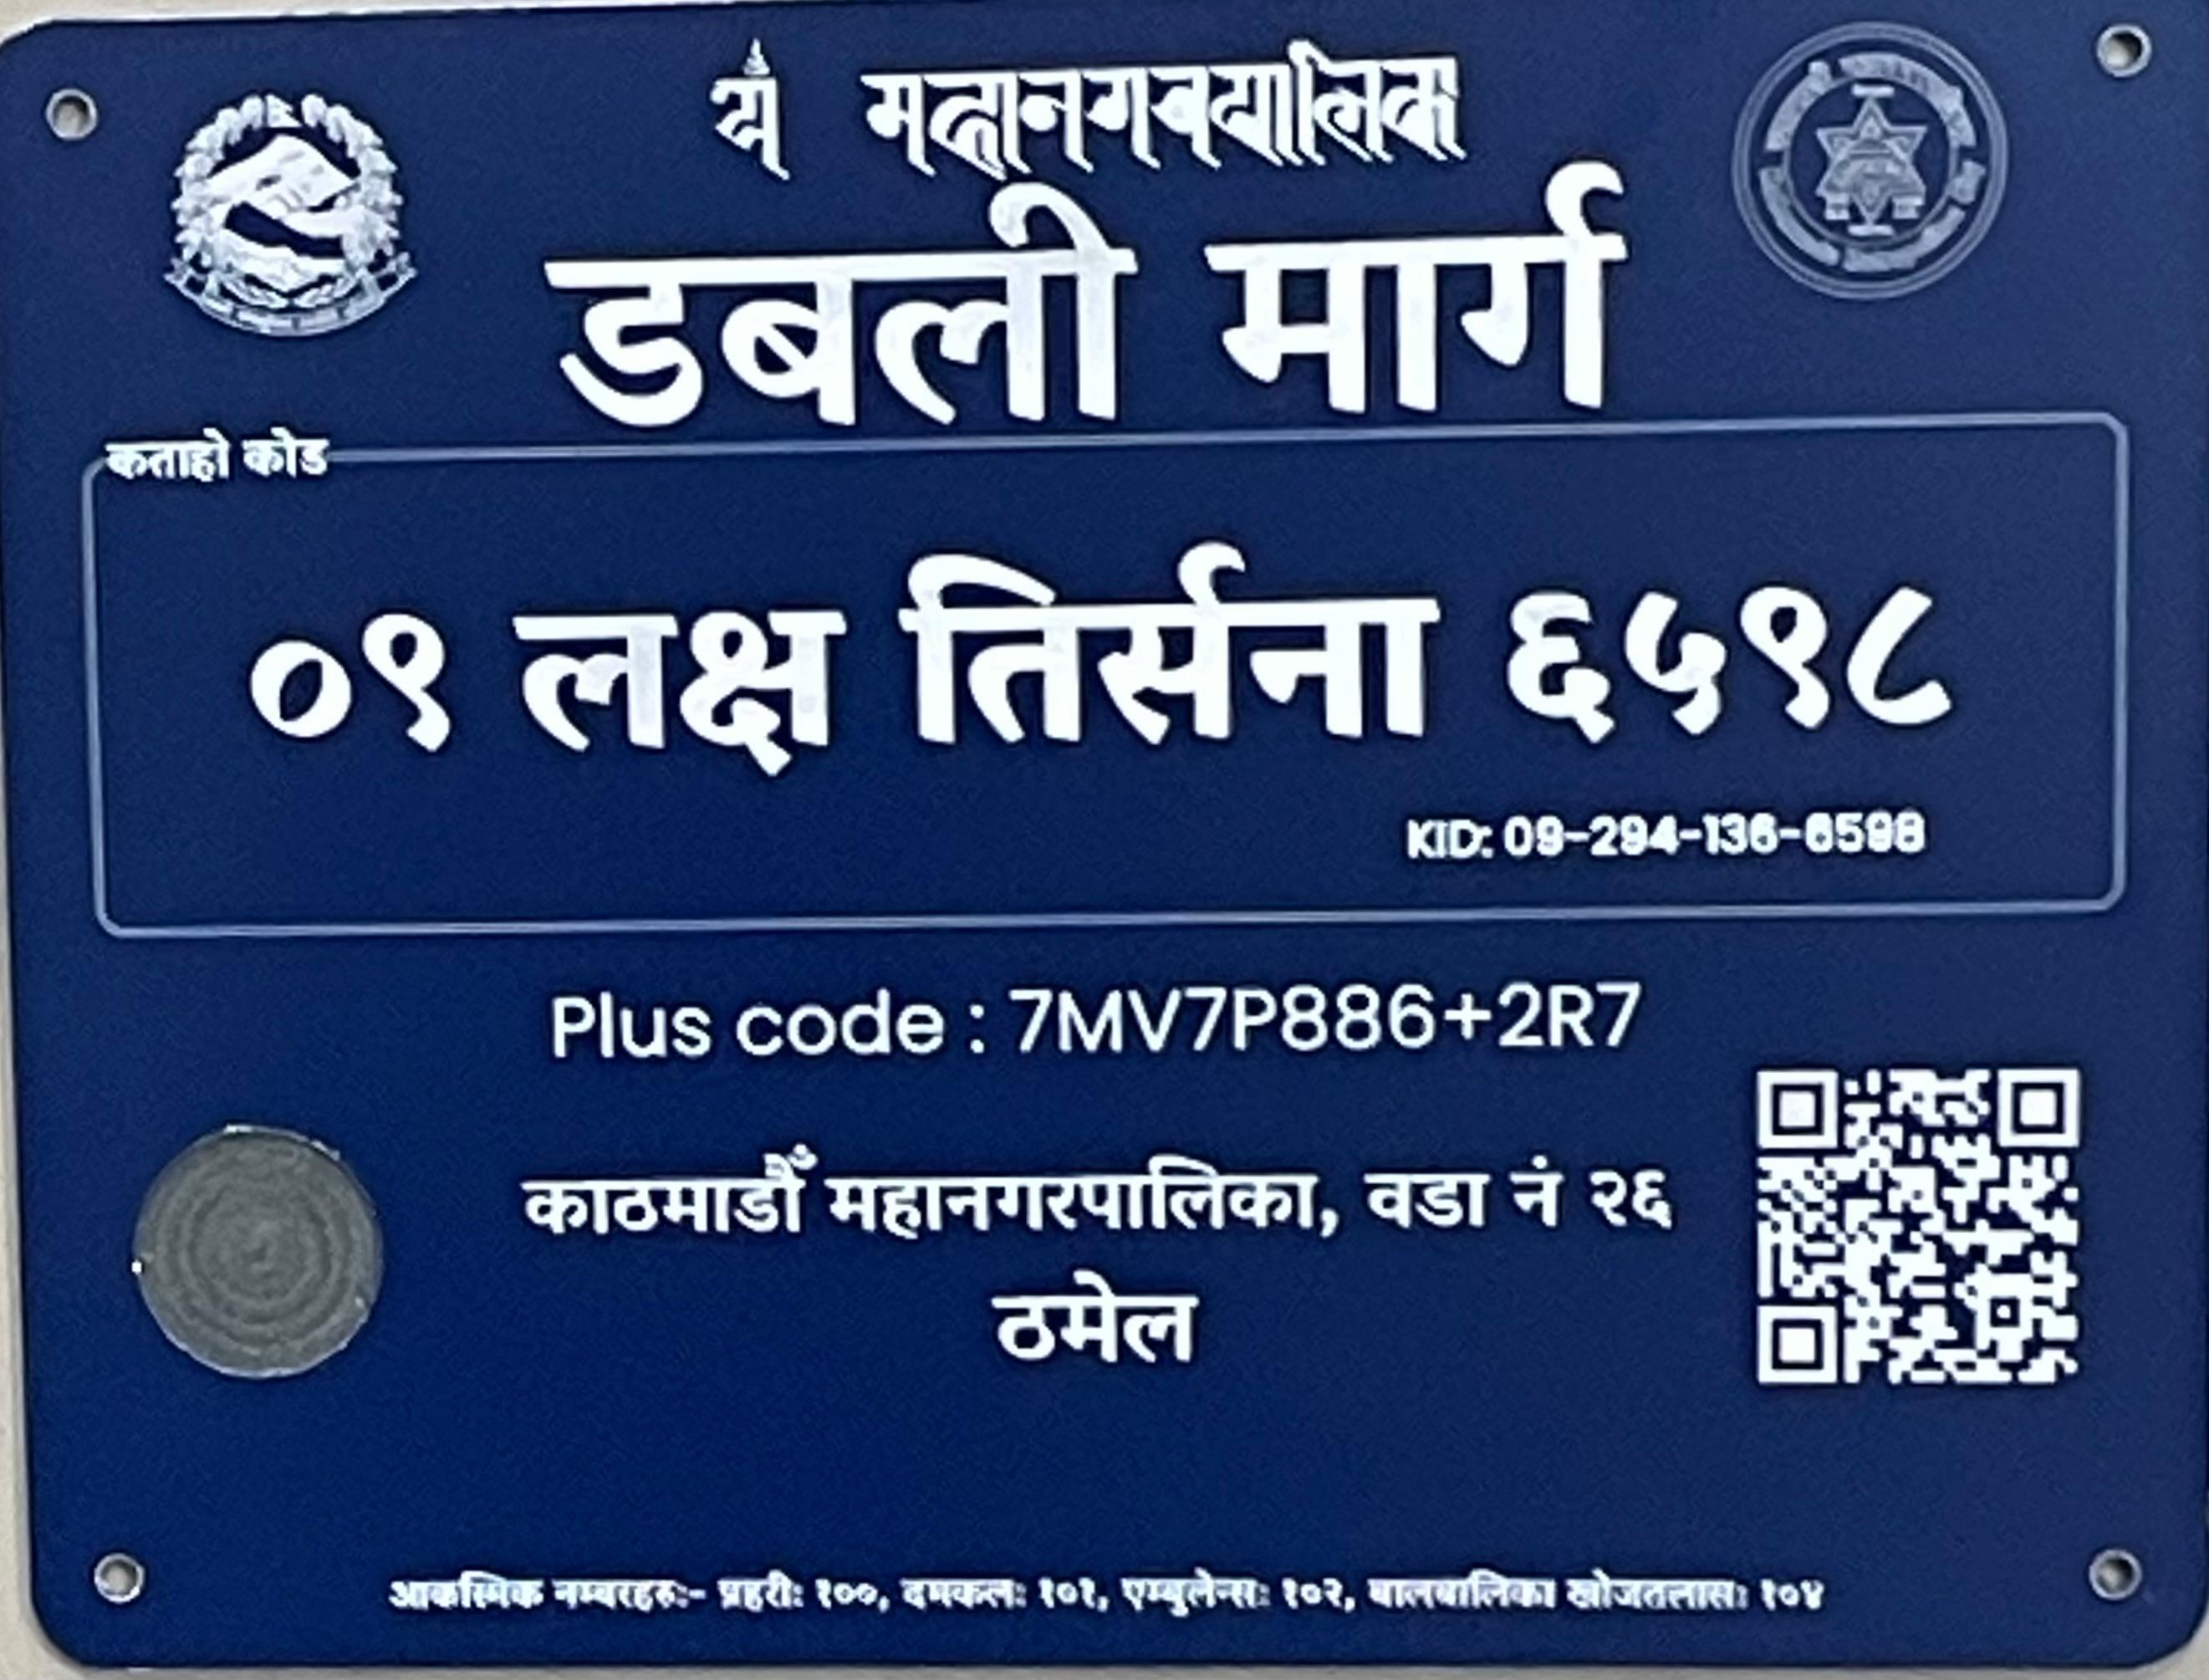Plate: (1, 1, 2209, 1680)
